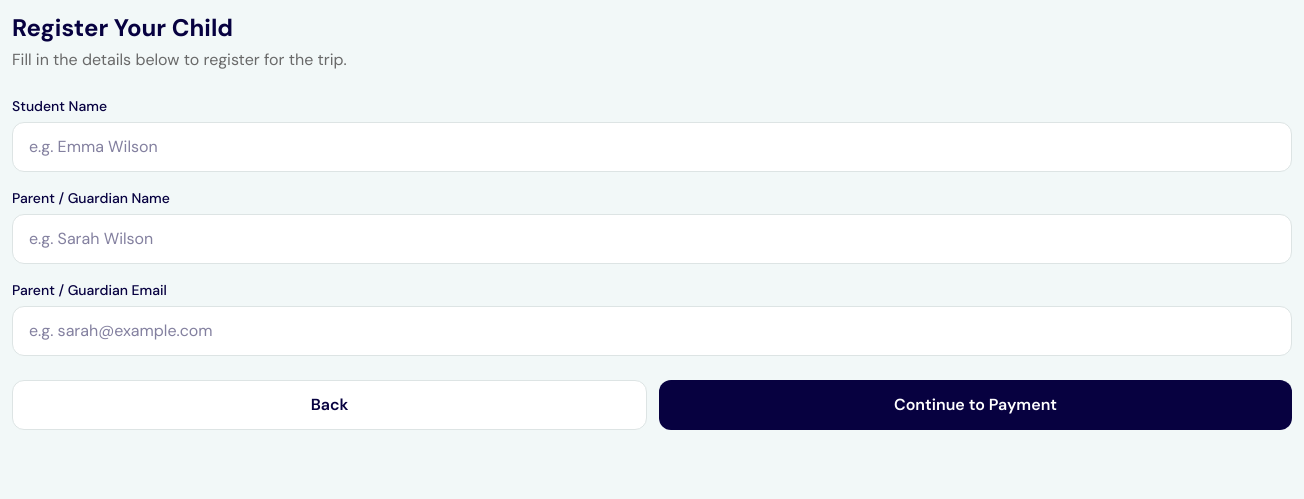
Test case: RegistrationForm validation › shows error for short names
The image size is (1304, 499).
In the field labelled "Student Name": [652, 147] box [12, 122, 1292, 172], type "E"
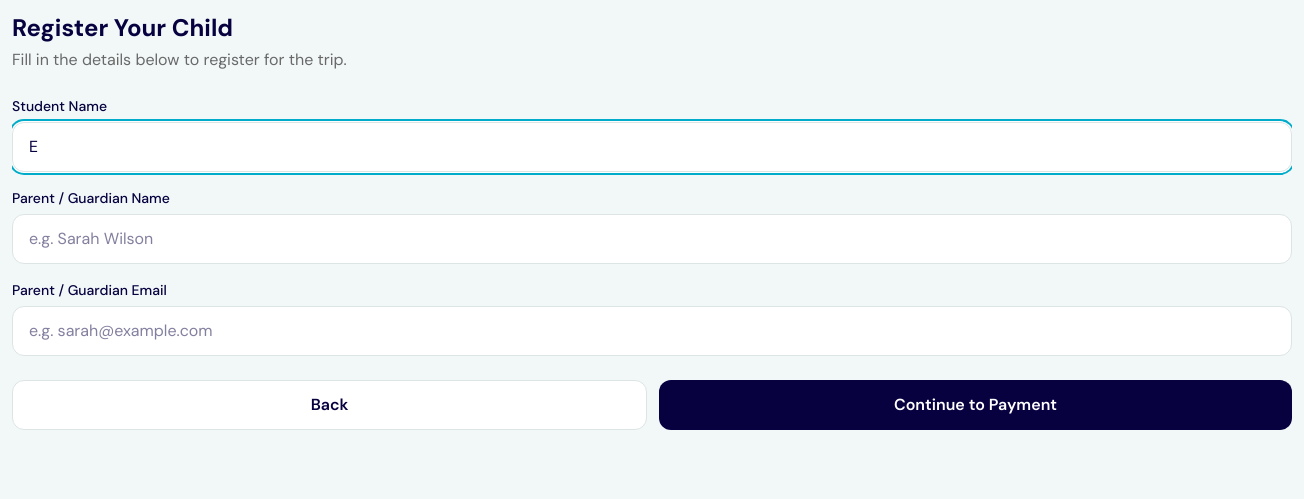
In the field labelled "Parent / Guardian Name": [652, 239] box [12, 214, 1292, 264], type "S"
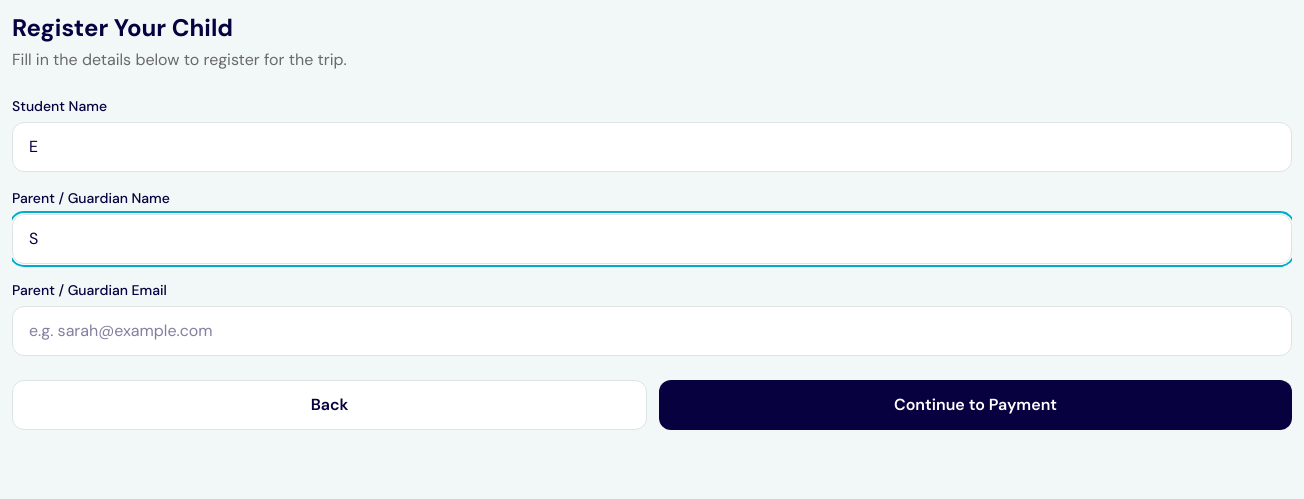
In the field labelled "Parent / Guardian Email": [652, 331] box [12, 306, 1292, 356], type "sarah@example.com"
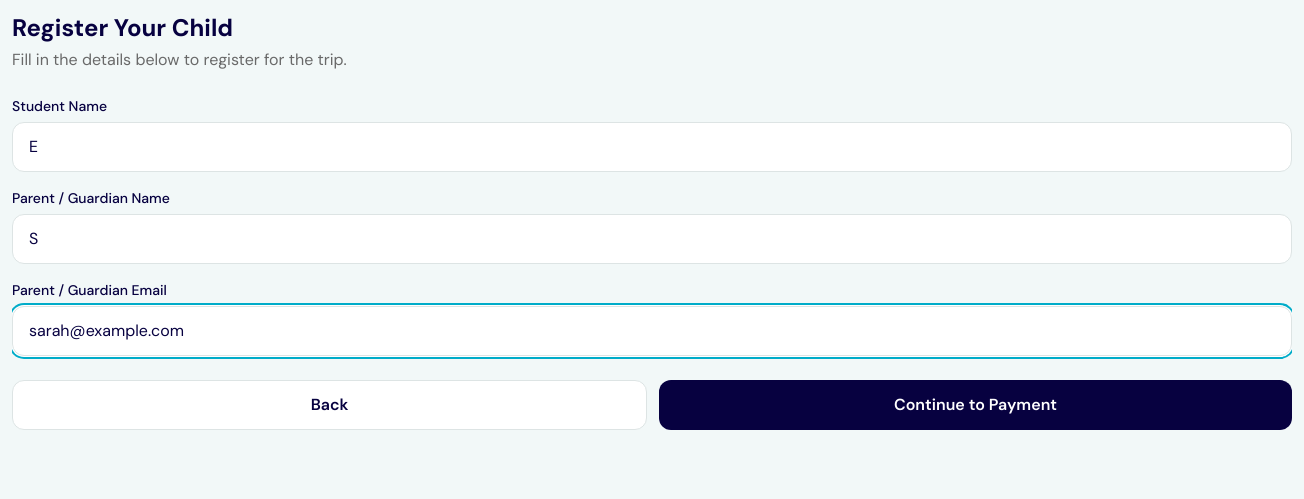
Click the button "Continue to Payment": [976, 405] box [659, 380, 1292, 430]
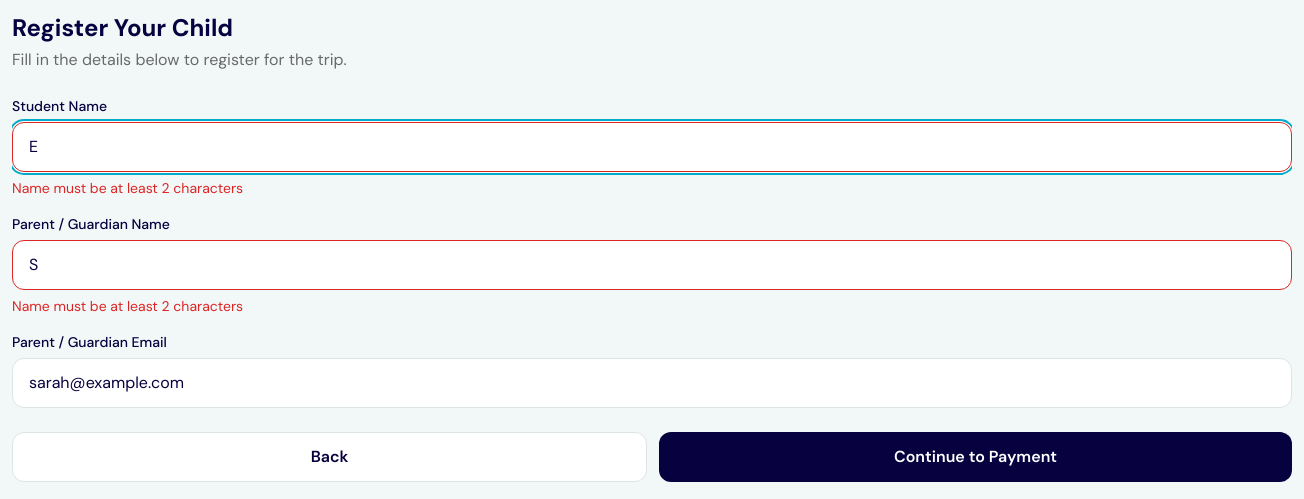
Result: the text "Name must be at least 2 characters" is shown 2 times at [12, 179, 243, 197]; [12, 297, 243, 315]
